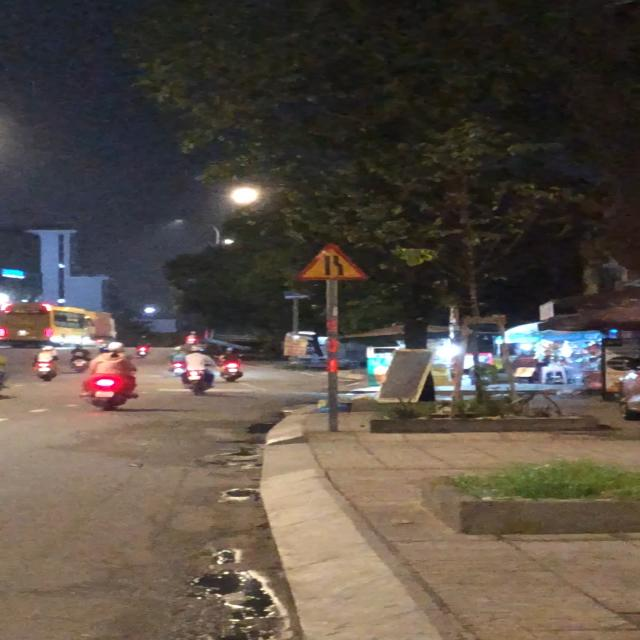Bien bao duong bi thu hep: (288, 238, 380, 287)
Bien bao toc do toi da cho phep: (625, 0, 640, 8)
